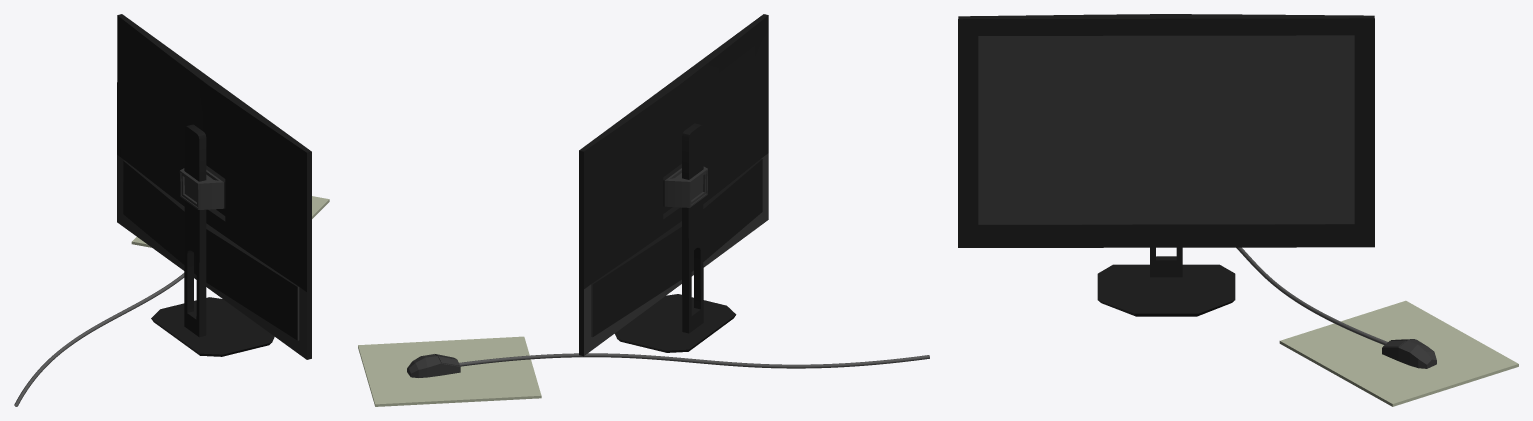
Rendered from Computer.fbx.
3 renders of one model, left to right at view 1: azimuth 30°, elevation 25°; view 2: azimuth 150°, elevation 25°; view 3: azimuth 270°, elevation 25°, orthographic. The views are drawn at different scales.
Visible parts, largest first — view 1: Computer, Curve.003, Mouse Pad; view 2: Computer, Mouse Pad, Curve.003, Mouse; view 3: Computer, Mouse Pad, Mouse, Curve.003.
Part boxes in pixels (bbox=[...]): Computer: bbox=[117, 14, 311, 359]; Curve.003: bbox=[14, 273, 184, 406]; Mouse Pad: bbox=[131, 196, 329, 247]; Computer: bbox=[579, 14, 768, 356]; Mouse Pad: bbox=[358, 336, 541, 406]; Curve.003: bbox=[459, 353, 929, 368]; Mouse: bbox=[407, 354, 460, 377]; Computer: bbox=[958, 14, 1374, 316]; Mouse Pad: bbox=[1279, 300, 1518, 406]; Mouse: bbox=[1382, 339, 1436, 368]; Curve.003: bbox=[1236, 247, 1387, 345].
Size of the model in its own units: 722 by 380 by 710.
